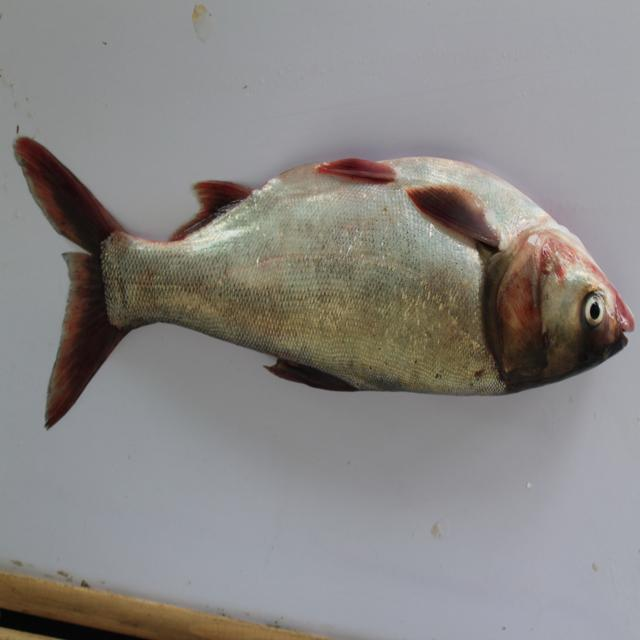SilverCarp: (5, 110, 637, 448)
